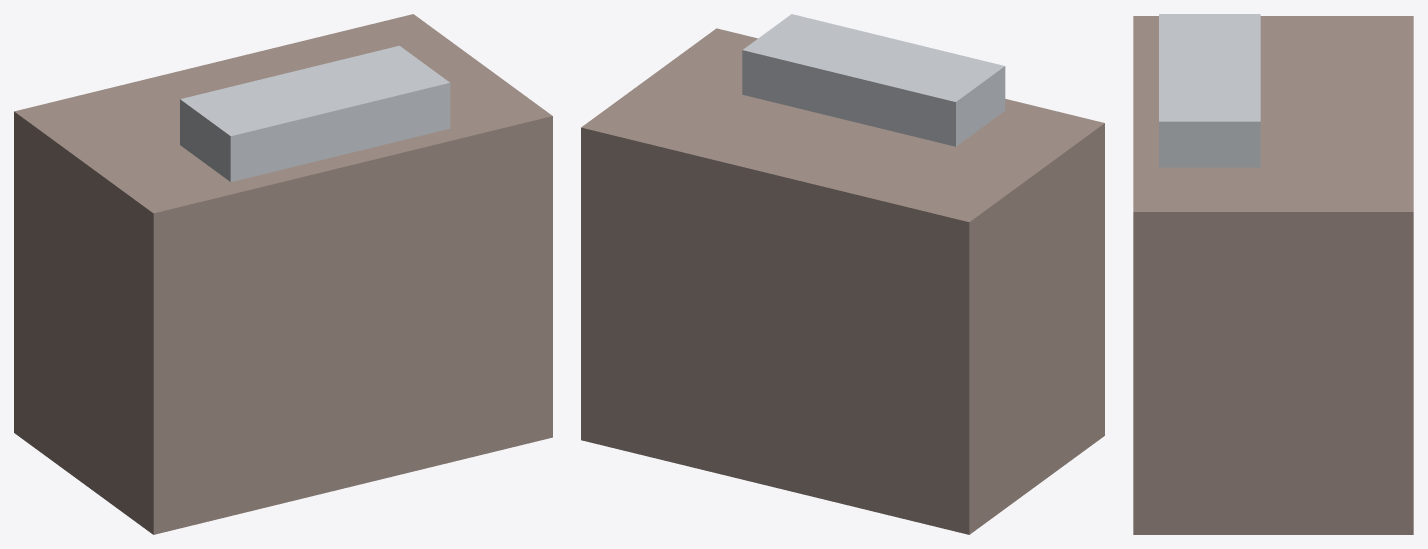
Rendered from prop.glb.
3 renders of one model, left to right at view 1: azimuth 30°, elevation 25°; view 2: azimuth 150°, elevation 25°; view 3: azimuth 270°, elevation 25°, orthographic. The views are drawn at different scales.
Parts seen in each view (by area): view 1: Cloth, Metal; view 2: Cloth, Metal; view 3: Cloth, Metal.
Boxes of the visible parts, left/top/right/bottom form: Cloth: left=14, top=14, right=552, bottom=534; Metal: left=180, top=45, right=450, bottom=181; Cloth: left=581, top=28, right=1104, bottom=534; Metal: left=742, top=14, right=1005, bottom=146; Cloth: left=1133, top=16, right=1413, bottom=534; Metal: left=1159, top=14, right=1260, bottom=167.
Size of the model in its own units: 0.3639 by 0.32 by 0.22.
